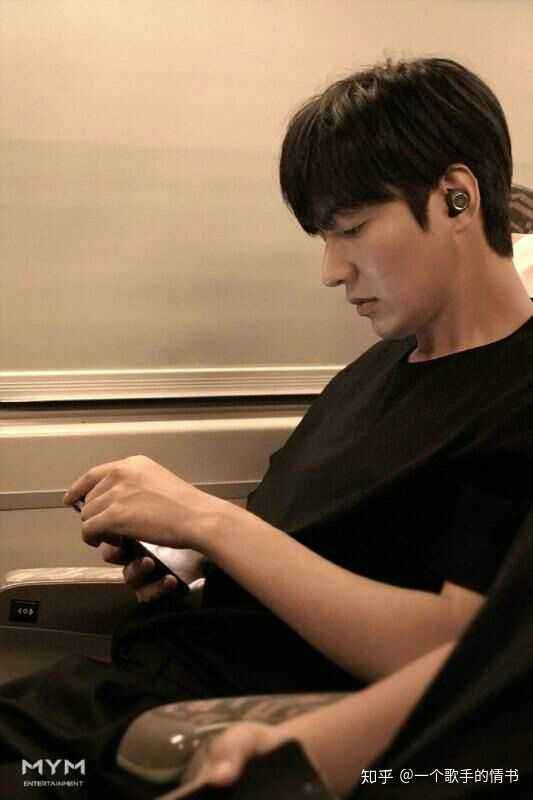person: (173, 41, 508, 670)
